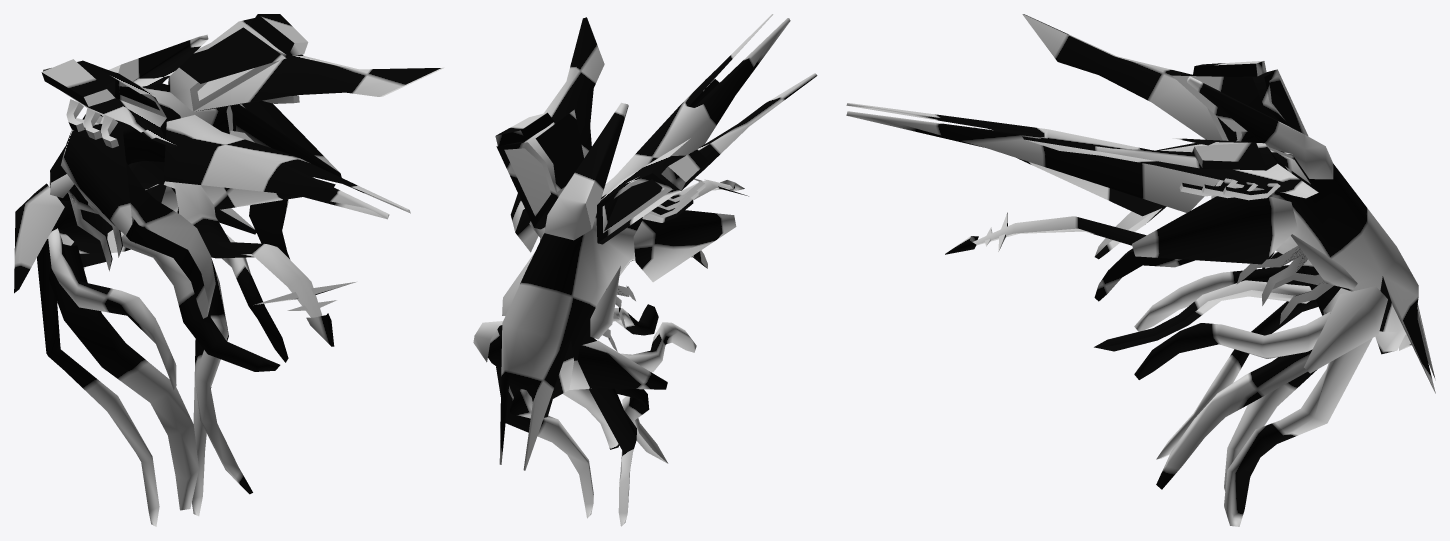
Rendered from saimon.obj.
The picture shows the model from 3 angles, left to right: view 1: azimuth 30°, elevation 25°; view 2: azimuth 150°, elevation 25°; view 3: azimuth 270°, elevation 25°; orthographic projection. The views are drawn at different scales.
Visible parts, largest first — view 1: saimon_LP; view 2: saimon_LP; view 3: saimon_LP.
Boxes of the visible parts, x1,y1,x2,y2 form: saimon_LP: (14,14,444,526); saimon_LP: (473,14,817,526); saimon_LP: (846,14,1435,526).
Bounding box in the file's own units: 34.6 × 57.02 × 68.64.
Materials: 1 (1 with a texture image).
